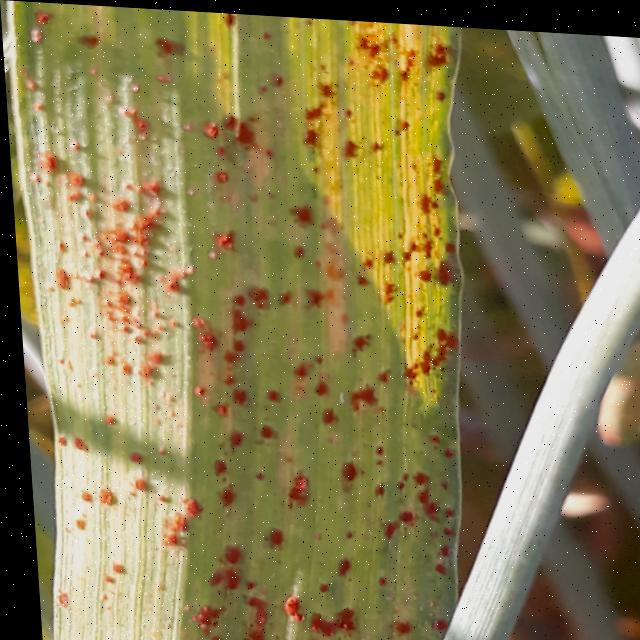orang_rust: (1, 0, 504, 640)
